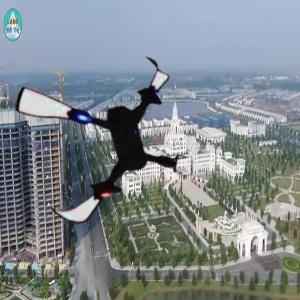drone: (5, 42, 195, 232)
